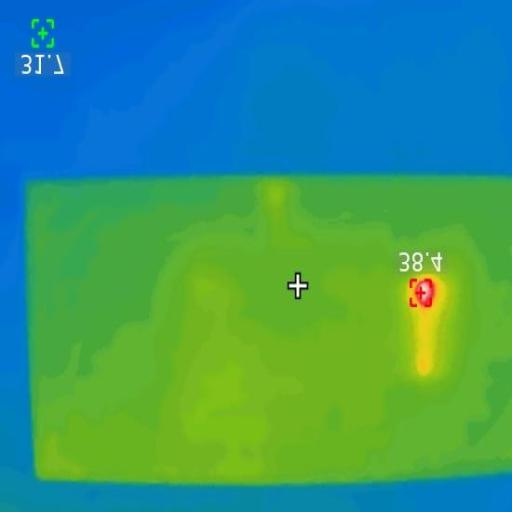hotspot: (412, 279, 434, 307)
